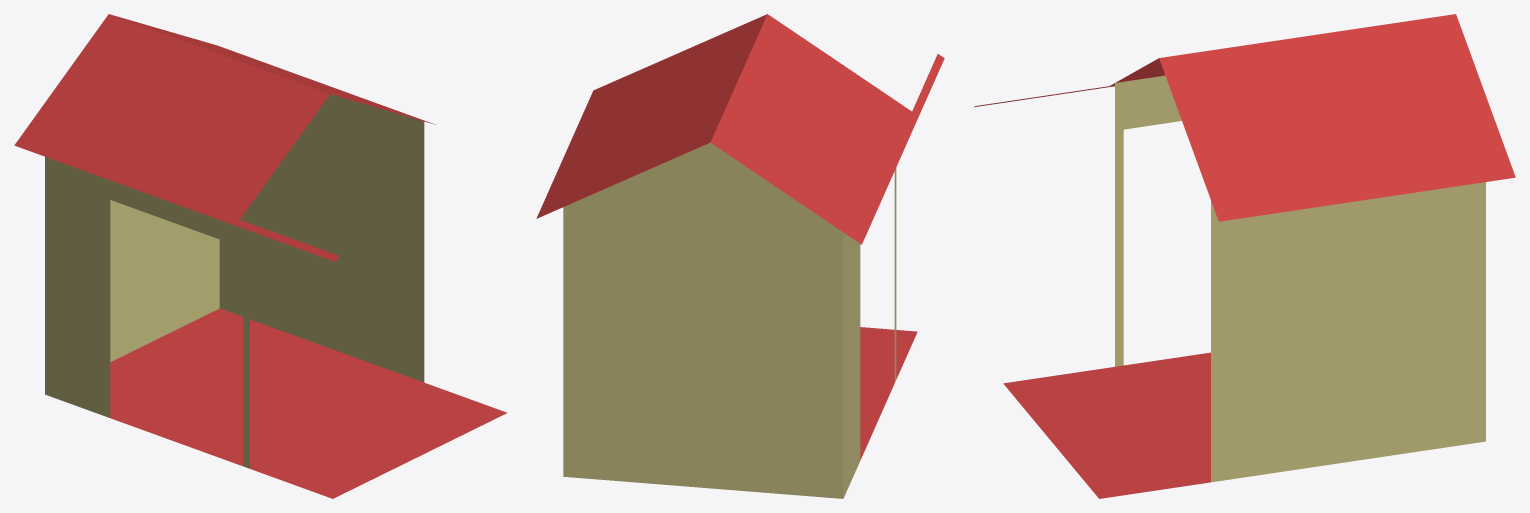
The picture shows the model from 3 angles, left to right: view 1: azimuth 30°, elevation 25°; view 2: azimuth 150°, elevation 25°; view 3: azimuth 270°, elevation 25°; orthographic projection. The views are drawn at different scales.
Size of the model in its own units: 9.36 by 11.56 by 8.5.
